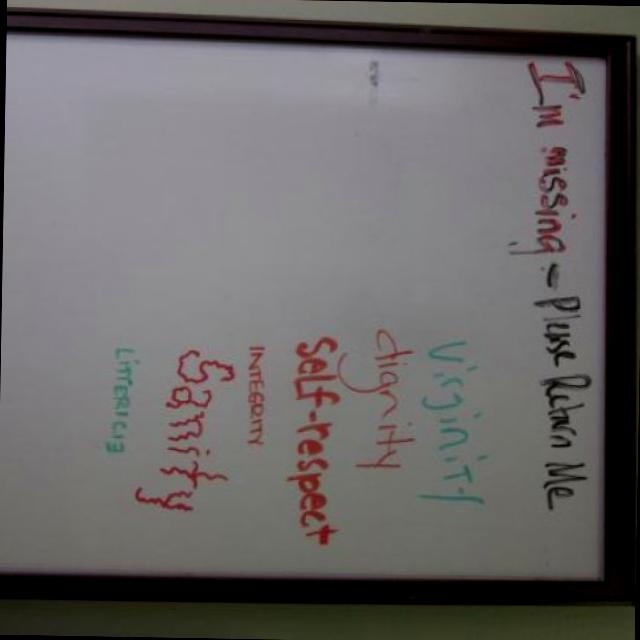White-board: (0, 20, 619, 589)
